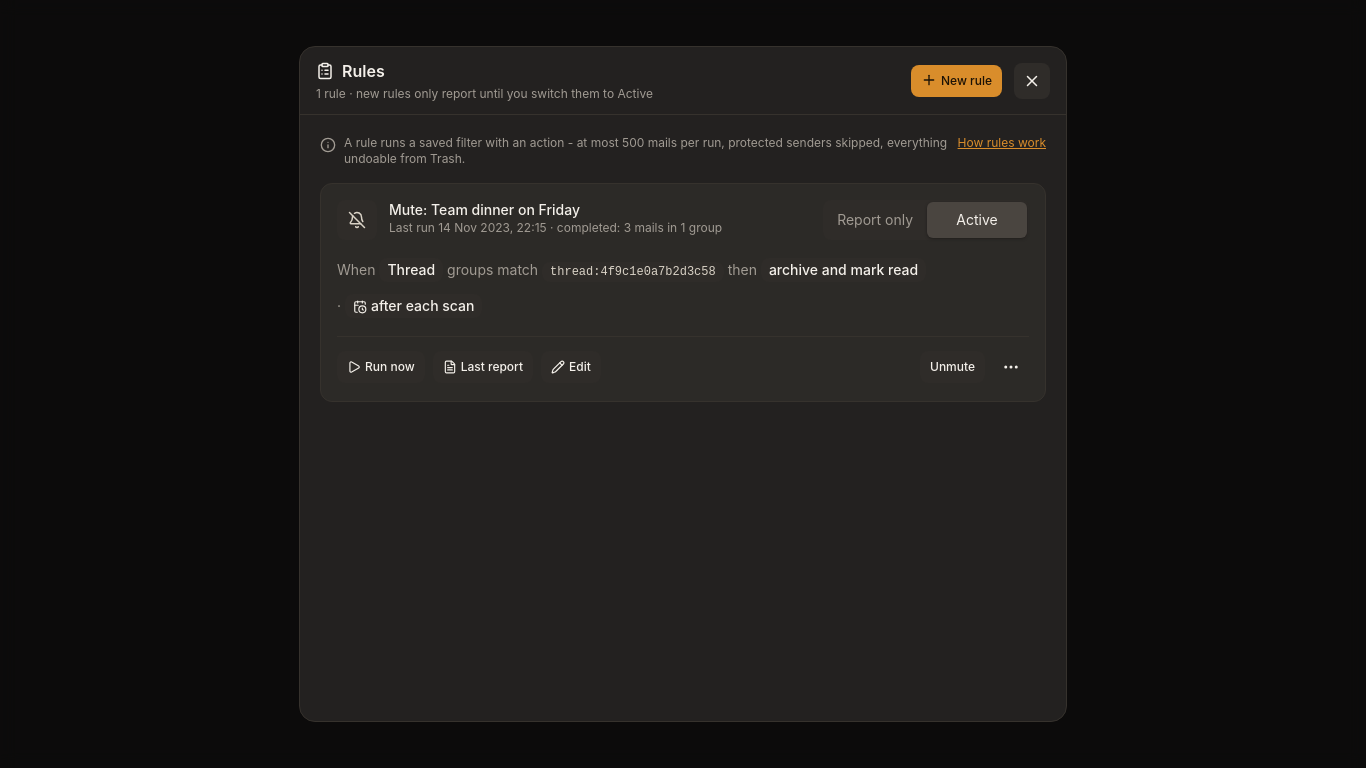
Test: the generic Delete stays in the menu of a mute
The image size is (1366, 768).
Click the button named "More: ": (1011, 367) [993,349,1029,385]
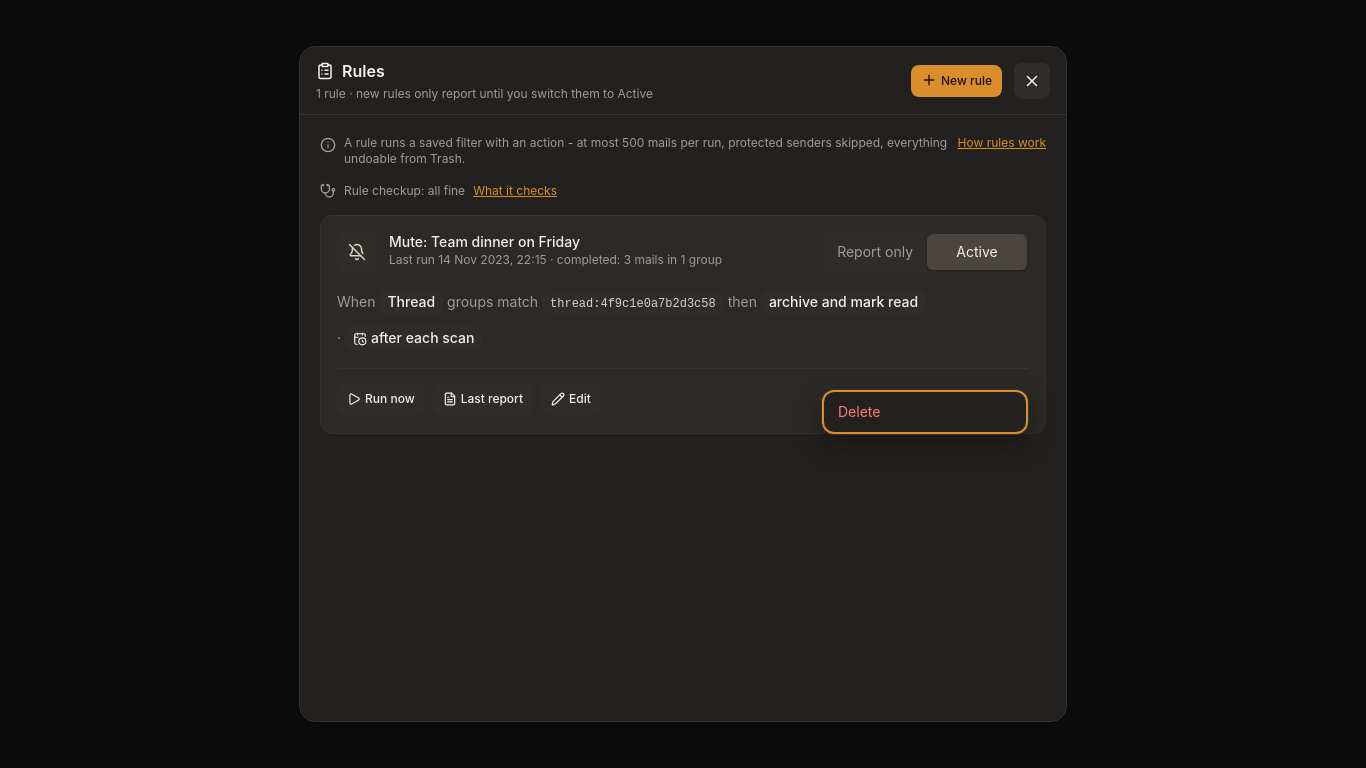
Expected: the menu item "Delete" is shown, [826,394,1024,430]
